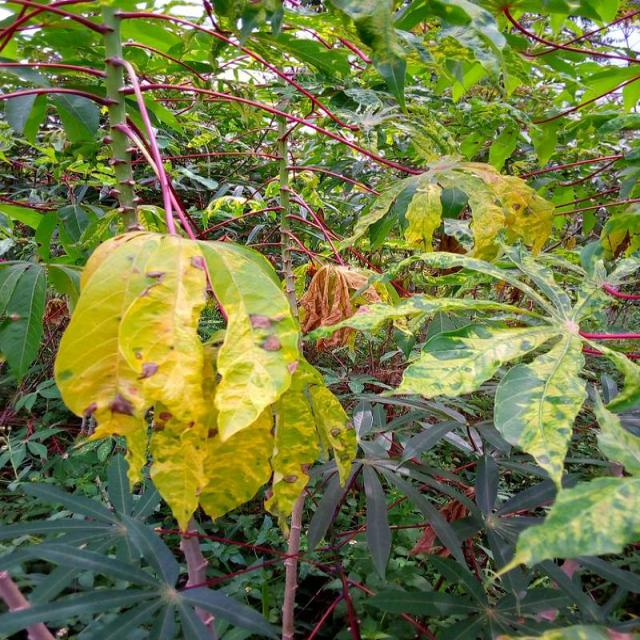cassava leaf: (53, 228, 357, 534)
